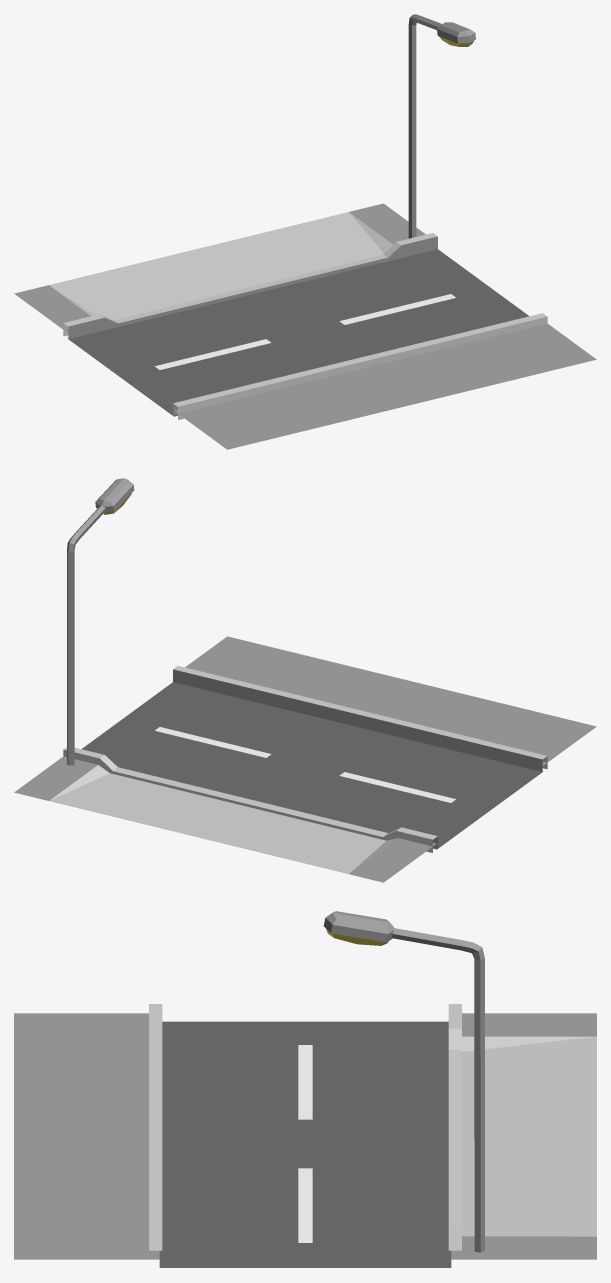
Rendered from road_tile_1x1_006.fbx.
3 renders of one model, top to bottom at view 1: azimuth 30°, elevation 25°; view 2: azimuth 150°, elevation 25°; view 3: azimuth 270°, elevation 25°, orthographic. The views are drawn at different scales.
Visible parts, largest first — view 1: road_tile_1x1_006; view 2: road_tile_1x1_006; view 3: road_tile_1x1_006.
Part boxes in pixels (x1=…): road_tile_1x1_006: x1=14, y1=14, x2=596, y2=449; road_tile_1x1_006: x1=14, y1=478, x2=596, y2=882; road_tile_1x1_006: x1=14, y1=911, x2=596, y2=1267.
Bounding box in the file's own units: 800 × 525 × 800.
